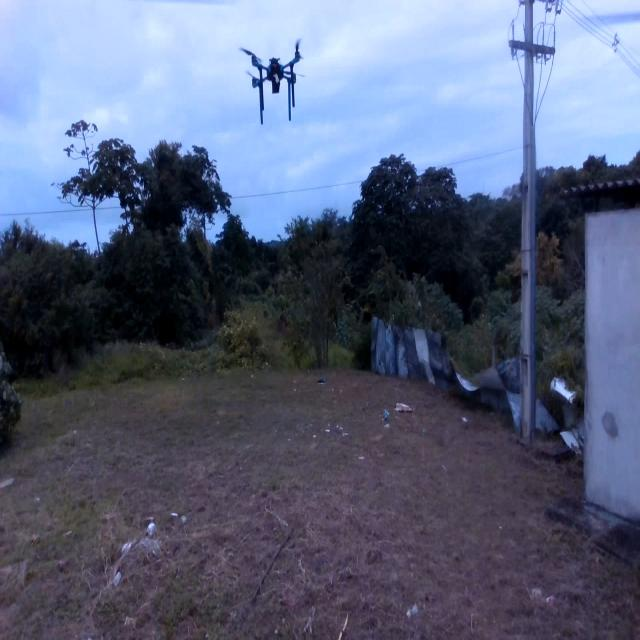-uav-: (232, 18, 308, 127)
